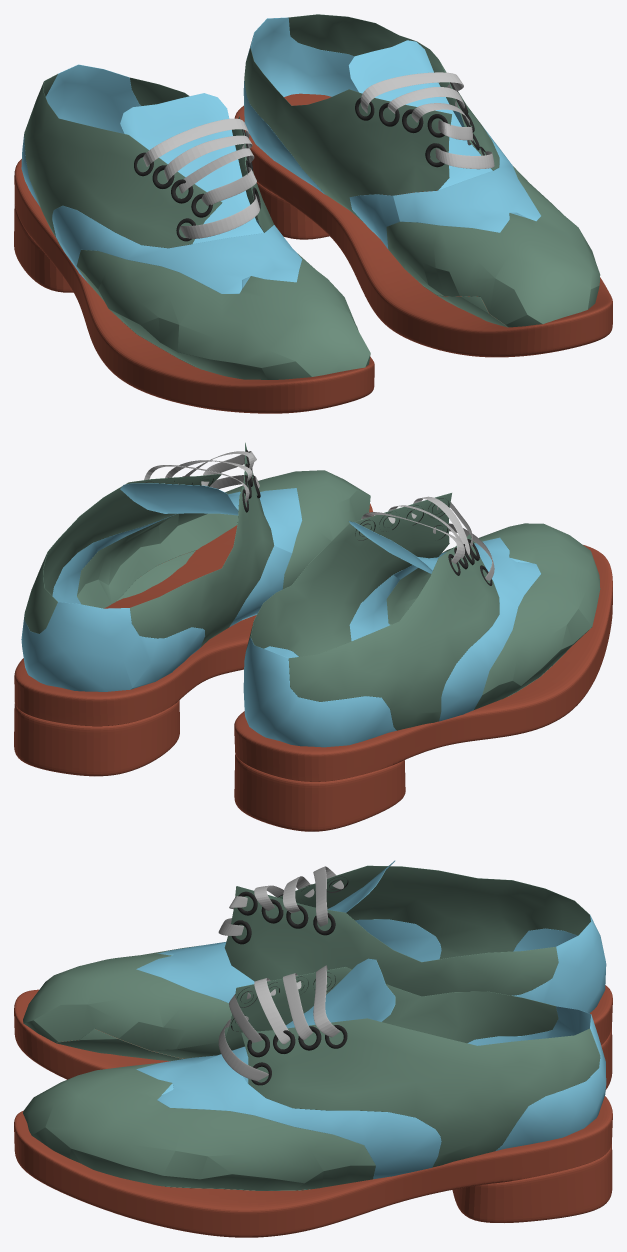
File: za2pri3 1.fbx
3 renders of one model, top to bottom at view 1: azimuth 30°, elevation 25°; view 2: azimuth 150°, elevation 25°; view 3: azimuth 270°, elevation 25°, orthographic.
Visible parts, largest first — view 1: zapato2.001, zapato2, Plane, Plane.011, Plane.007, Plane.004, Plane.006, Plane.008, Plane.003, Plane.010, Plane.009, Plane.005; view 2: zapato2.001, zapato2, Plane.011, Plane, Plane.010; view 3: zapato2, zapato2.001, Plane, Plane.011, Plane.001, Plane.003, Plane.004, Plane.007, Plane.005, Plane.008, Plane.002.
Part boxes in pixels (x1=…): zapato2.001: x1=21, y1=64, x2=370, y2=379; zapato2: x1=243, y1=14, x2=600, y2=327; Plane: x1=234, y1=93, x2=612, y2=357; Plane.011: x1=14, y1=159, x2=374, y2=413; Plane.007: x1=143, y1=118, x2=249, y2=166; Plane.004: x1=360, y1=72, x2=463, y2=113; Plane.006: x1=180, y1=194, x2=259, y2=238; Plane.008: x1=164, y1=135, x2=252, y2=181; Plane.003: x1=387, y1=87, x2=464, y2=113; Plane.010: x1=179, y1=148, x2=254, y2=193; Plane.009: x1=201, y1=167, x2=256, y2=206; Plane.005: x1=435, y1=148, x2=494, y2=169; zapato2.001: x1=243, y1=493, x2=600, y2=747; zapato2: x1=21, y1=442, x2=370, y2=691; Plane.011: x1=234, y1=545, x2=612, y2=831; Plane: x1=14, y1=503, x2=373, y2=776; Plane.010: x1=411, y1=496, x2=469, y2=555; zapato2: x1=23, y1=958, x2=606, y2=1190; zapato2.001: x1=23, y1=860, x2=606, y2=1060; Plane: x1=14, y1=1096, x2=612, y2=1237; Plane.011: x1=14, y1=985, x2=612, y2=1089; Plane.001: x1=254, y1=978, x2=290, y2=1044; Plane.003: x1=283, y1=973, x2=312, y2=1040; Plane.004: x1=313, y1=965, x2=340, y2=1037; Plane.007: x1=313, y1=866, x2=343, y2=926; Plane.005: x1=218, y1=1016, x2=268, y2=1080; Plane.008: x1=283, y1=876, x2=314, y2=913; Plane.002: x1=229, y1=992, x2=262, y2=1042.
Bounding box in the file's own units: 390 × 176 × 447.
